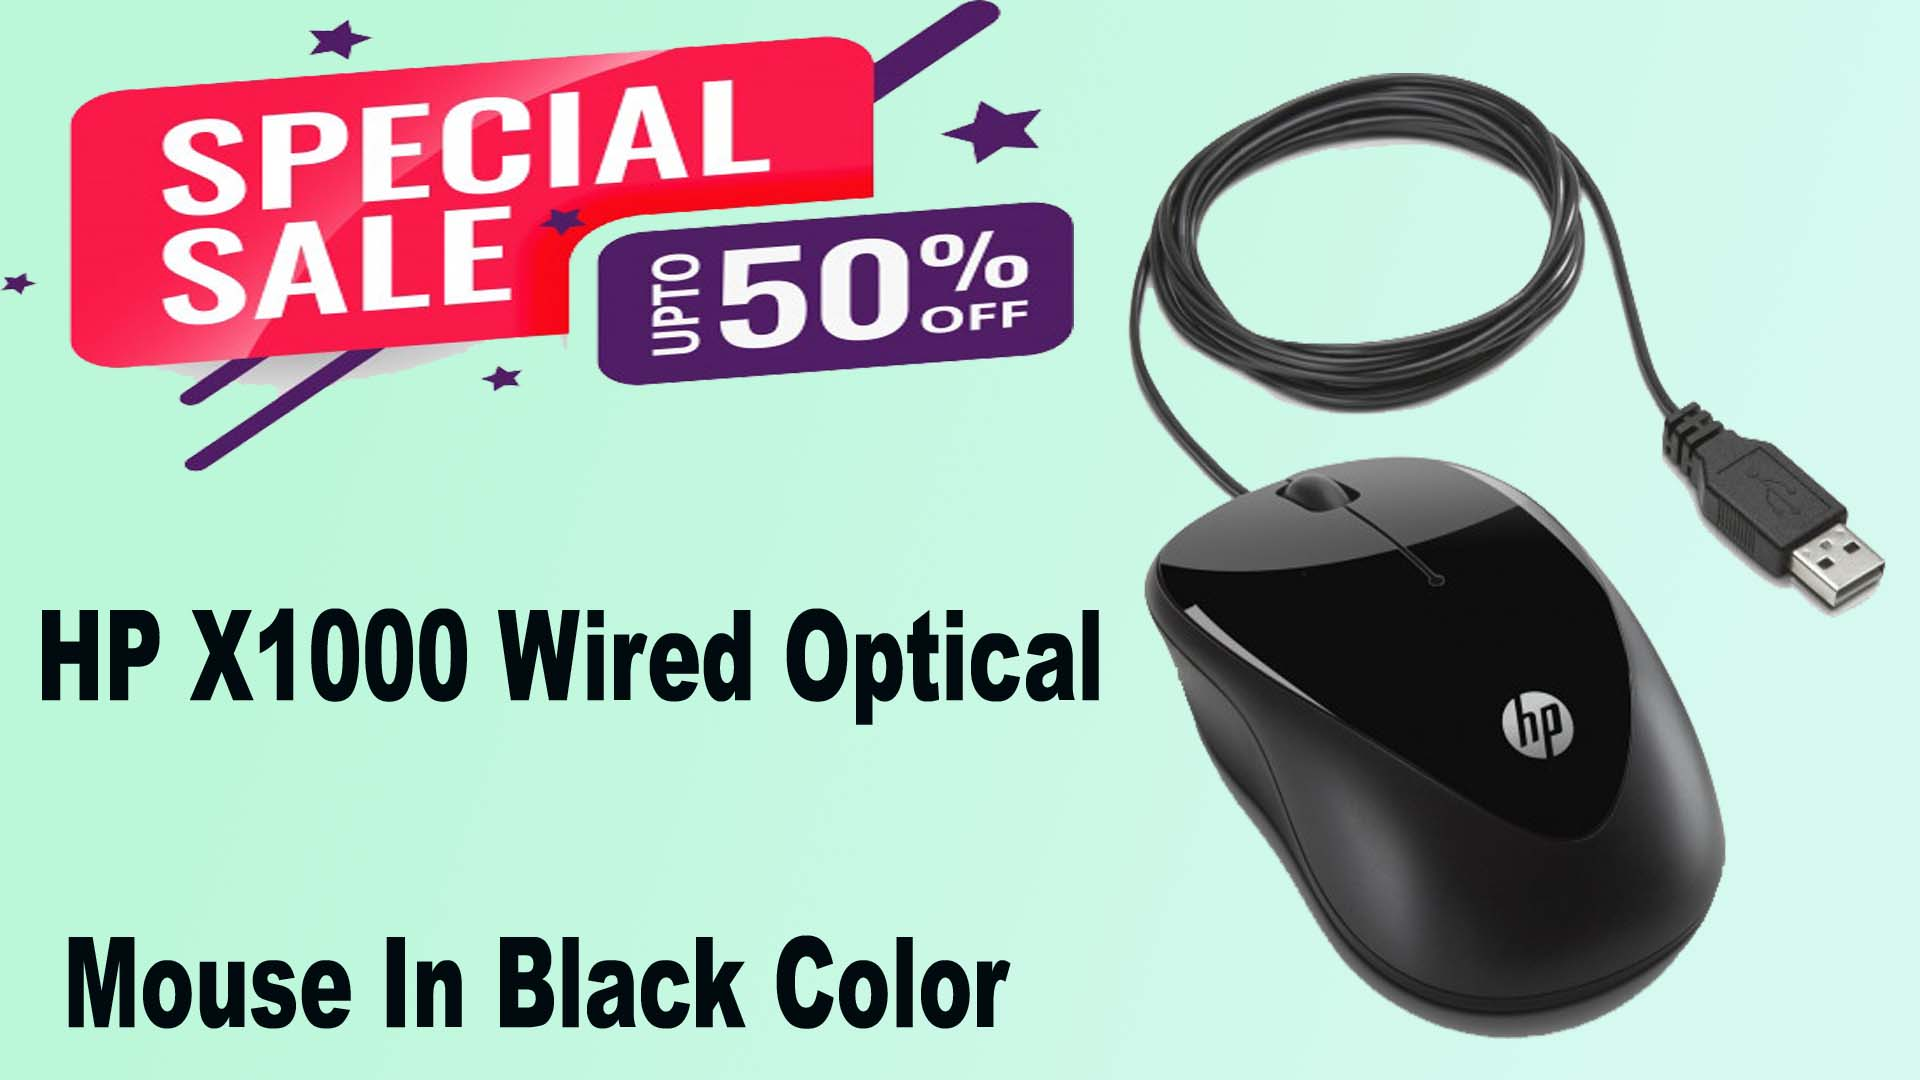hp-mouse-X1000: (1127, 70, 1886, 1015)
